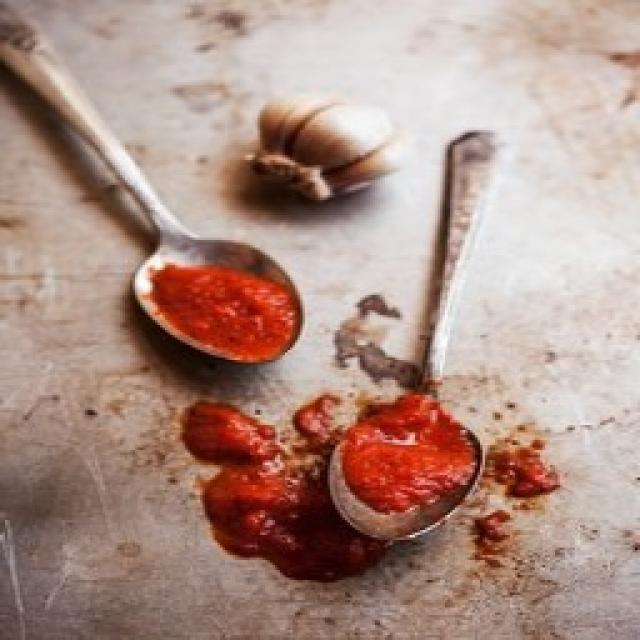Harissa: (184, 392, 476, 578), (142, 264, 301, 363), (335, 296, 418, 386)
